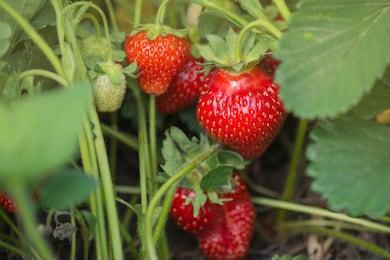Fresa: (190, 57, 291, 166), (119, 22, 193, 96)
